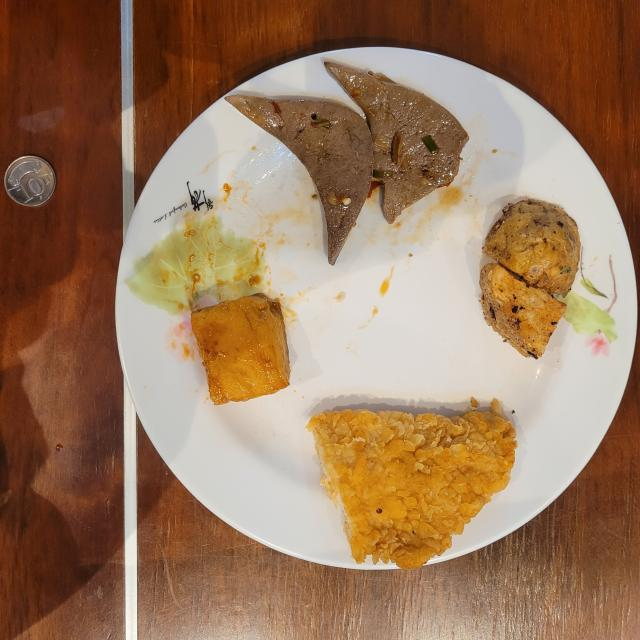coin: (4, 156, 56, 206)
creamy tofu: (191, 292, 290, 405)
fried chicken cutlet: (308, 400, 516, 569)
fried potato: (480, 199, 580, 359)
pig liver: (226, 62, 469, 264)
